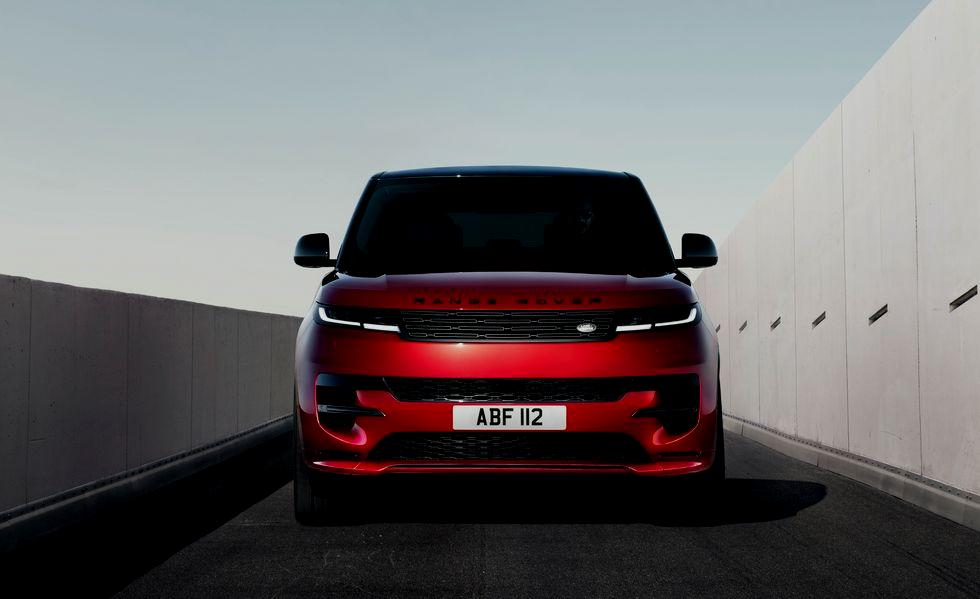range rover: (410, 290, 616, 310)
